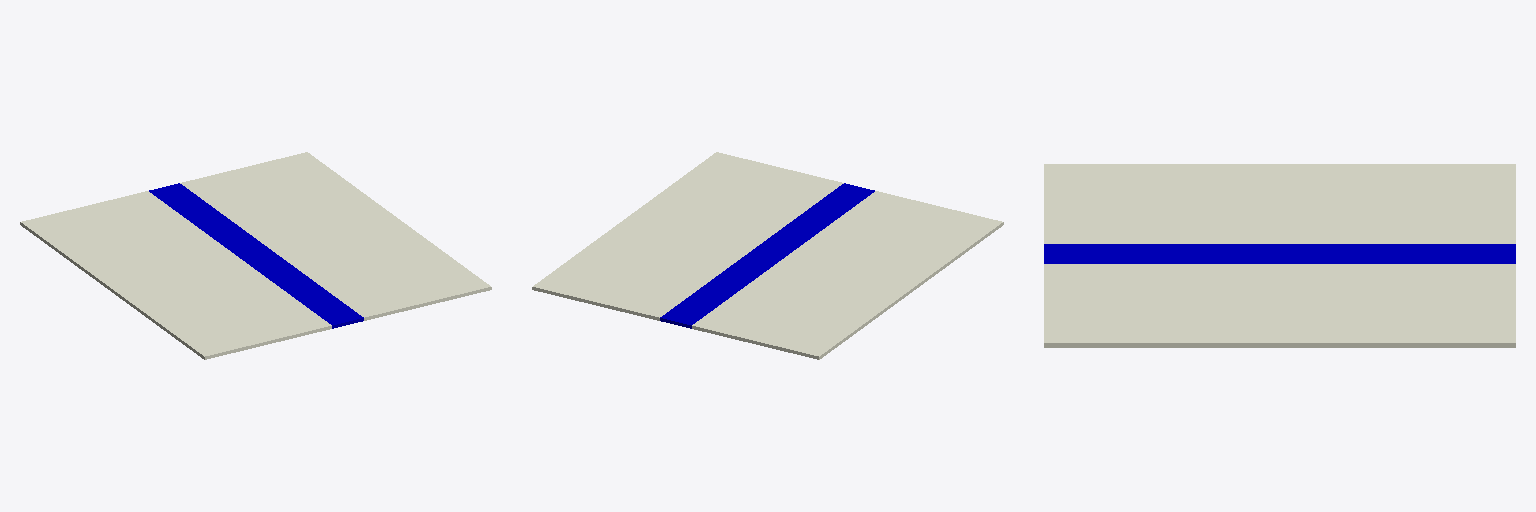
The robot description file, URDF, robot "lowfricterrain":
<?xml version="1.0"?>
<robot name = "lowfricterrain">
<material name="black">
    <color rgba="0.0 0.0 0.0 1.0"/>
  </material>
  <material name="blue">
    <color rgba="0.0 0.0 0.8 1.0"/>
  </material>
  <material name="green">
    <color rgba="0.0 0.8 0.0 1.0"/>
  </material>
  <material name="grey">
    <color rgba="0.2 0.2 0.2 1.0"/>
  </material>
  <material name="silver">
    <color rgba="0.913725490196 0.913725490196 0.847058823529 1.0"/>
  </material>
  <material name="orange">
    <color rgba="1.0 0.423529411765 0.0392156862745 1.0"/>
  </material>
  <material name="brown">
    <color rgba="0.870588235294 0.811764705882 0.764705882353 1.0"/>
  </material>
  <material name="red">
    <color rgba="0.8 0.0 0.0 1.0"/>
  </material>
  <material name="white">
    <color rgba="1.0 1.0 1.0 1.0"/>
  </material>
<link name = "starting_tile">
        <visual>
            <origin xyz = "-1 0 -0.05"/>
            <geometry>
                <box size = "4 10 0.1" />
            </geometry>
            <material name="silver"/>
        </visual>
        <inertial>
            <origin xyz="0 0 0"/>
            <mass value="1"/>
            <inertia ixx="0.167" iyy="0.167" izz="0.167" ixy="0" ixz="0" iyz="0"/>
        </inertial>
    </link>
    <link name = "slip_tile">
        <visual>
            <origin xyz = "1.5 0 -0.05"/>
            <geometry>
                <box size = "1 10 0.1"/>
            </geometry>
            <material name="blue"/>
        </visual>
        <inertial>
            <origin xyz="0 0 0"/>
            <mass value="1"/>
            <inertia ixx="0.167" iyy="0.167" izz="0.167" ixy="0" ixz="0" iyz="0"/>
        </inertial>
    </link>
    <link name = "final_tile">
        <visual>
            <origin xyz = "4 0 -0.05"/>
            <geometry>
                <box size="4 10 0.1"/>
            </geometry>
        <material name="silver"/>
        </visual>
        <inertial>
            <origin xyz="0 0 0"/>
            <mass value="1"/>
            <inertia ixx="0.167" iyy="0.167" izz="0.167" ixy="0" ixz="0" iyz="0"/>
        </inertial>
        <!-- Put a single collision point at the bottom of the box-->
        <!--First collision point-->
        <collision>
            <origin xyz="0.0 0.0 -0.5"/>
            <geometry>
                <sphere radius="0"/>
            </geometry>
        </collision>
    </link>
    <!--Add joints between the dummy frames to model the brick-->
    <joint name="start_to_sticky" type="fixed">
        <parent link="starting_tile"/>
        <child link="slip_tile"/>
        <origin rpy="0 0 0" xyz="0 0 0"/>
        <axis xyz="0 0 1"/>
    </joint>
    <joint name="stick_to_final" type="fixed">
        <parent link="slip_tile"/>
        <child link="final_tile"/>
        <origin rpy="0 0 0" xyz="0 0 0"/>
        <axis xyz="0 0 1"/>
    </joint>
</robot>

--- Render facts (derived) ---
3 views of the same robot in one strip: view 1: azimuth 30°, elevation 25°; view 2: azimuth 150°, elevation 25°; view 3: azimuth 270°, elevation 25° (orthographic).
Robot: lowfricterrain — 3 links, 2 joints (2 fixed); root link starting_tile; default pose: all joints at 0.
Links seen in each view (by area): view 1: starting_tile, final_tile, slip_tile; view 2: starting_tile, final_tile, slip_tile; view 3: final_tile, starting_tile, slip_tile.
Link boxes in pixels (left/top/right/bottom): starting_tile: left=20, top=191, right=331, bottom=359; final_tile: left=180, top=152, right=491, bottom=320; slip_tile: left=149, top=183, right=363, bottom=328; starting_tile: left=692, top=191, right=1003, bottom=359; final_tile: left=532, top=152, right=843, bottom=320; slip_tile: left=660, top=183, right=874, bottom=328; final_tile: left=1044, top=264, right=1515, bottom=347; starting_tile: left=1044, top=164, right=1515, bottom=243; slip_tile: left=1044, top=244, right=1515, bottom=263.
Size in the robot's own frame: 9 by 10 by 0.1 metres.
Geometry: primitives only (box / cylinder / sphere), no mesh files.